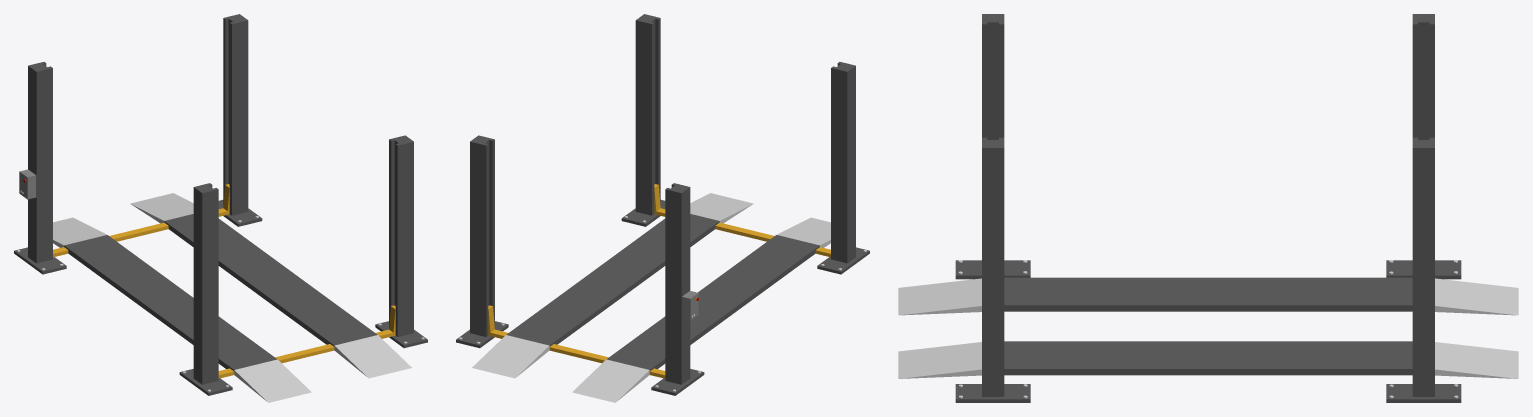
The model's file is Me_Machine_1.fbx.
The picture shows the model from 3 angles, left to right: view 1: azimuth 30°, elevation 25°; view 2: azimuth 150°, elevation 25°; view 3: azimuth 270°, elevation 25°; orthographic projection. The views are drawn at different scales.
Visible parts, largest first — view 1: Me_Machine_1; view 2: Me_Machine_1; view 3: Me_Machine_1.
Boxes of the visible parts, x1,y1,x2,y2 form: Me_Machine_1: (14,14,427,402); Me_Machine_1: (456,14,869,402); Me_Machine_1: (898,14,1518,402).
Size of the model in its own units: 2624 by 4813 by 2160.
